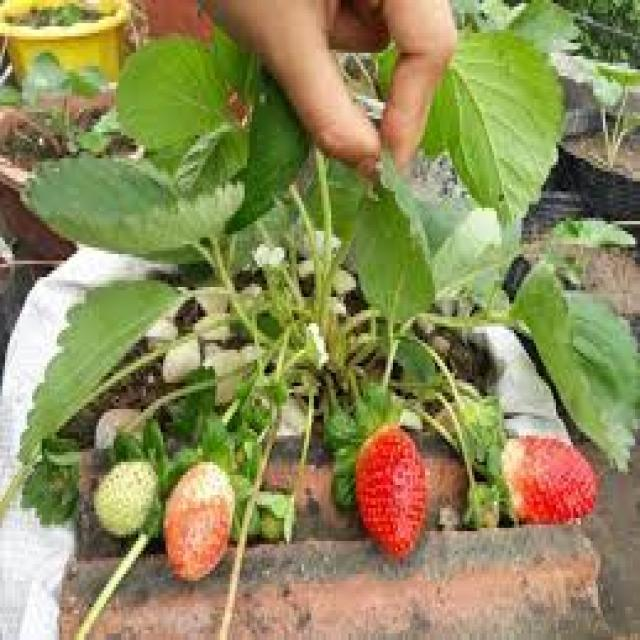Fruta sana: (498, 427, 602, 530), (350, 426, 430, 556), (166, 441, 233, 575), (95, 452, 155, 536)
